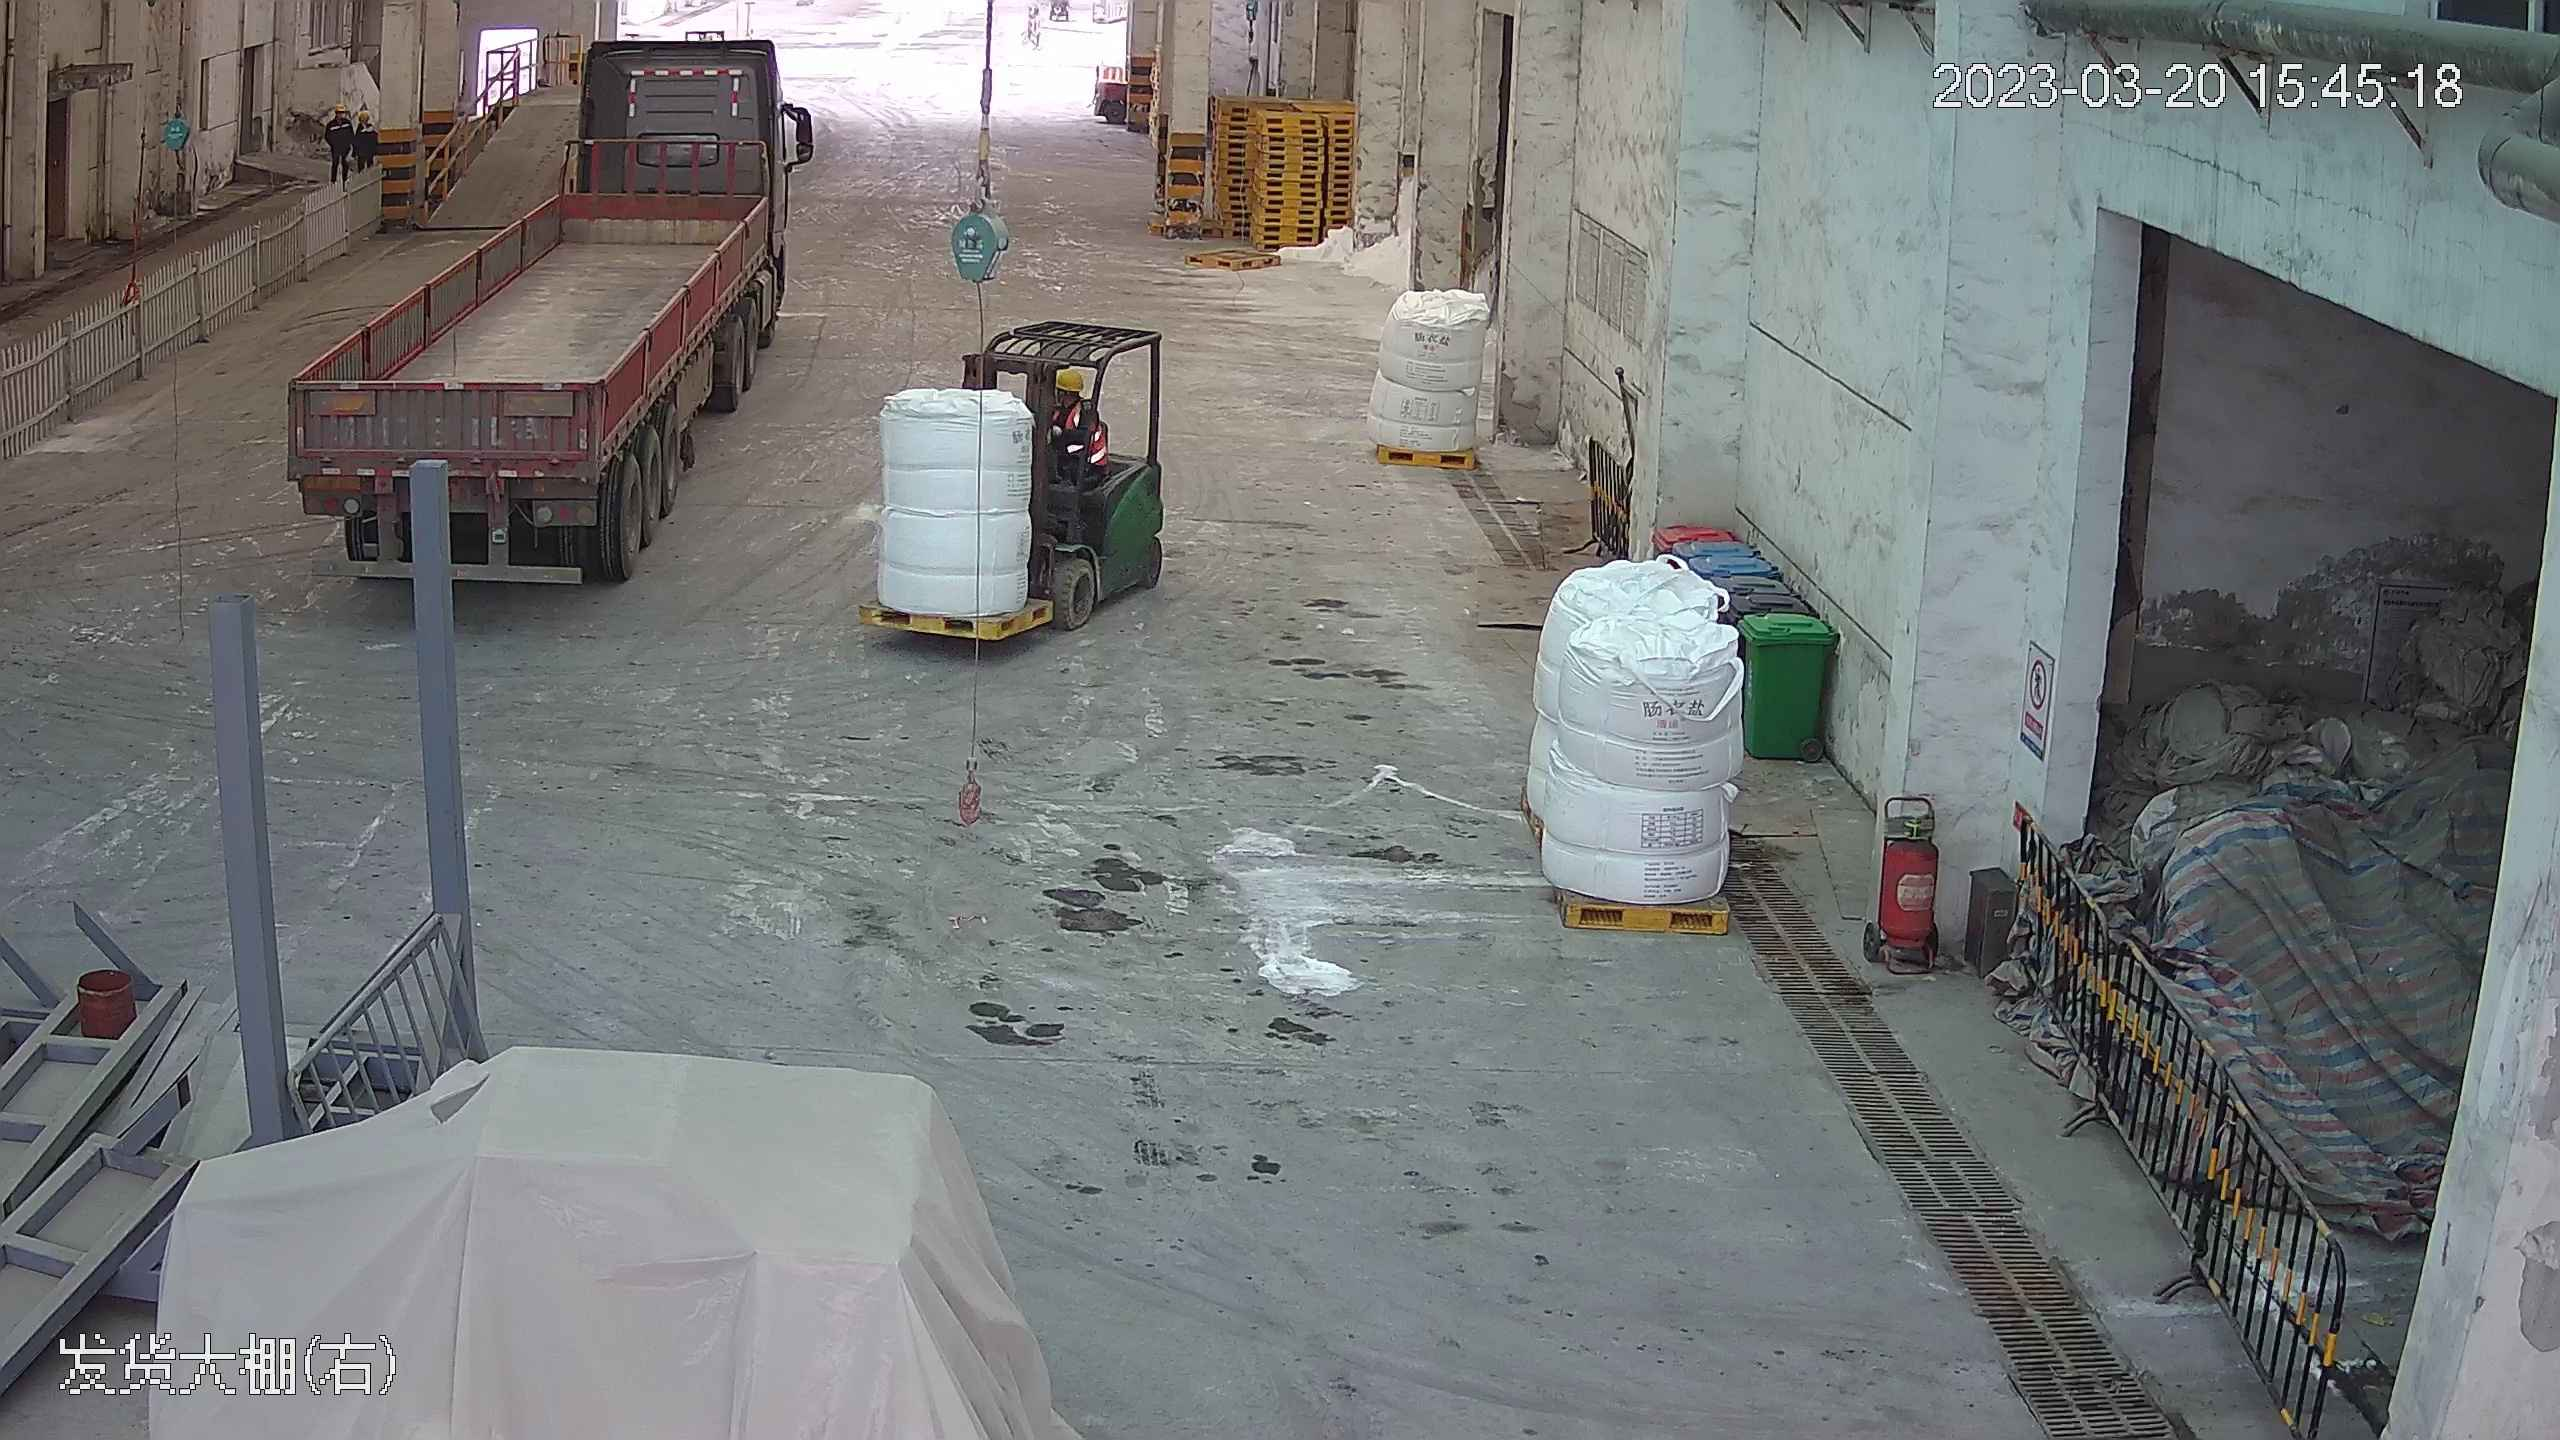head: (1047, 365, 1101, 430), (323, 101, 353, 131), (353, 110, 374, 143)
helmet: (1053, 362, 1089, 392), (358, 110, 370, 122), (332, 105, 347, 113)
people: (318, 98, 364, 177), (354, 108, 377, 172)
truck: (258, 18, 799, 590)
